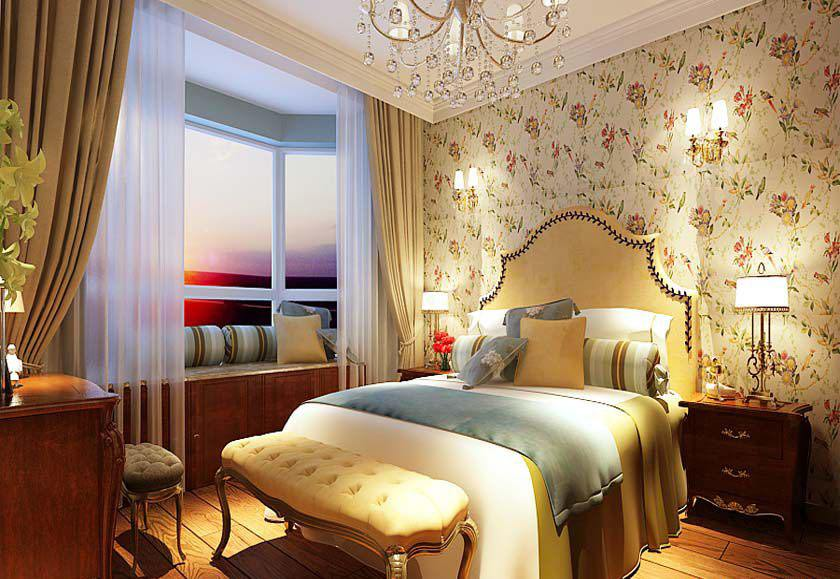床: (219, 374, 696, 575)
枕头: (460, 308, 666, 395), (180, 316, 331, 364)
灯: (348, 1, 565, 114), (731, 269, 801, 402), (682, 109, 735, 165), (419, 289, 454, 368), (446, 164, 487, 210)
